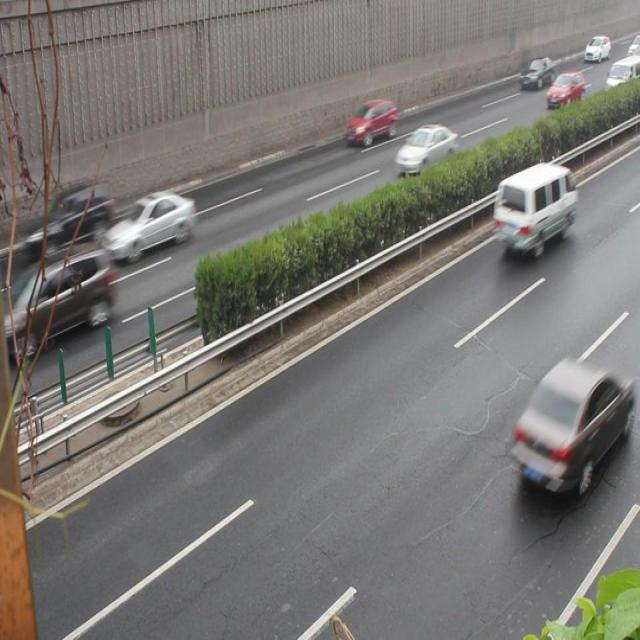car: (512, 355, 627, 492), (15, 242, 111, 350), (18, 178, 114, 272), (103, 190, 195, 263), (392, 121, 457, 176), (344, 98, 396, 150), (545, 70, 583, 108), (518, 55, 553, 91)
truck: (491, 164, 574, 252)
